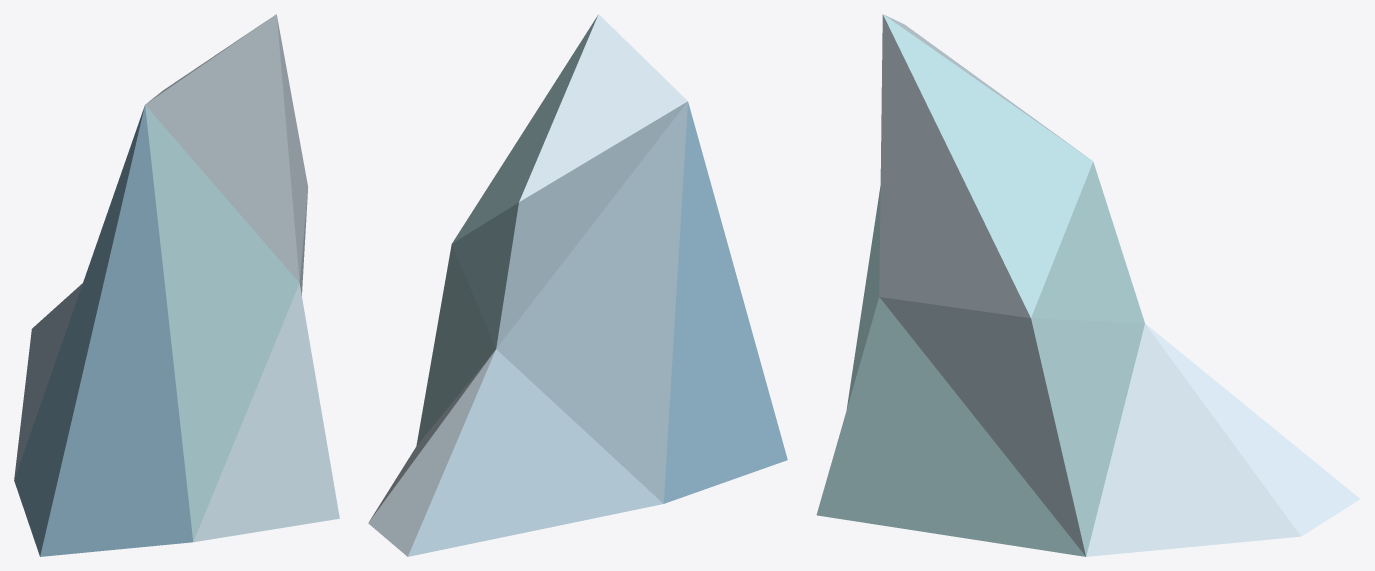
The model's file is Iceberg 12.fbx.
The picture shows the model from 3 angles, left to right: view 1: azimuth 30°, elevation 25°; view 2: azimuth 150°, elevation 25°; view 3: azimuth 270°, elevation 25°; orthographic projection. The views are drawn at different scales.
Visible parts, largest first — view 1: Iceberg 15; view 2: Iceberg 15; view 3: Iceberg 15.
Part boxes in pixels (x1,y1,x2,y2): Iceberg 15: [14, 14, 339, 556]; Iceberg 15: [368, 14, 787, 556]; Iceberg 15: [816, 14, 1359, 556].
Size of the model in its own units: 1982 by 2618 by 2631.
